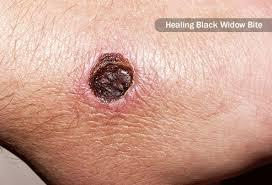Spider: (74, 38, 147, 128)
